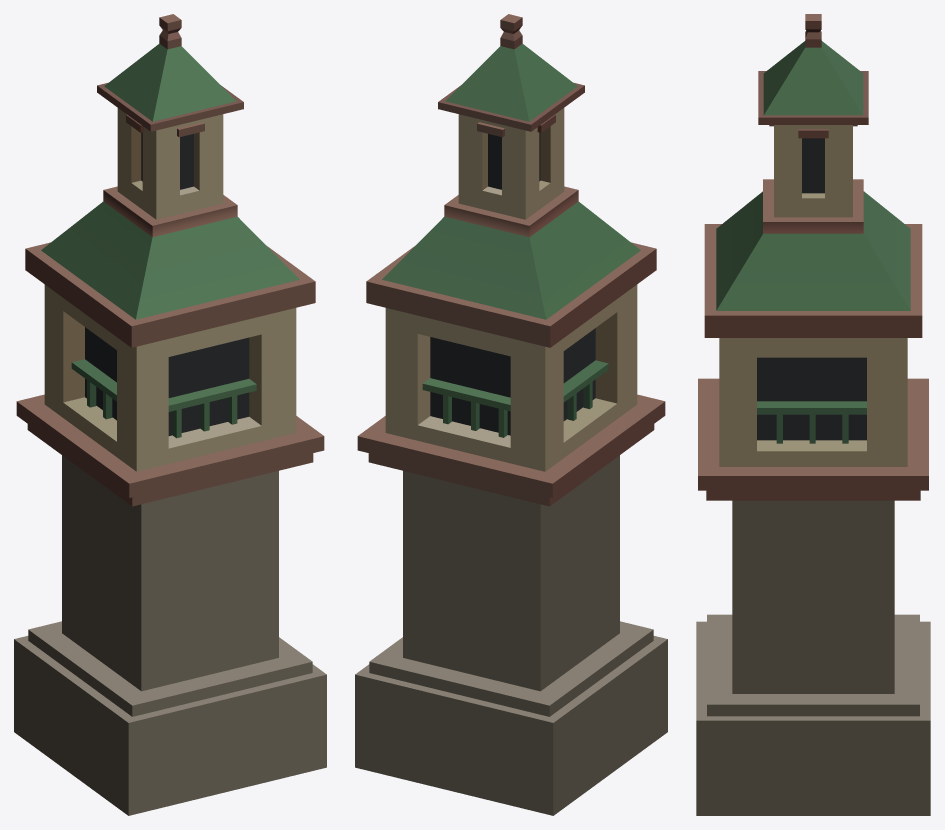
The model's file is SF_Bld_Elven_Castle_Wall_Tower_01.fbx.
3 views of the same model, side by side, from view 1: azimuth 30°, elevation 25°; view 2: azimuth 150°, elevation 25°; view 3: azimuth 270°, elevation 25° (orthographic). The views are drawn at different scales.
Parts seen in each view (by area): view 1: SF_Bld_Elven_Castle_Wall_Tower_01; view 2: SF_Bld_Elven_Castle_Wall_Tower_01; view 3: SF_Bld_Elven_Castle_Wall_Tower_01.
Part boxes in pixels (x1,y1,x2,y2): SF_Bld_Elven_Castle_Wall_Tower_01: (14,14,326,815); SF_Bld_Elven_Castle_Wall_Tower_01: (355,14,667,815); SF_Bld_Elven_Castle_Wall_Tower_01: (696,14,930,815).
Size of the model in its own units: 6.69 by 23.54 by 6.69.
